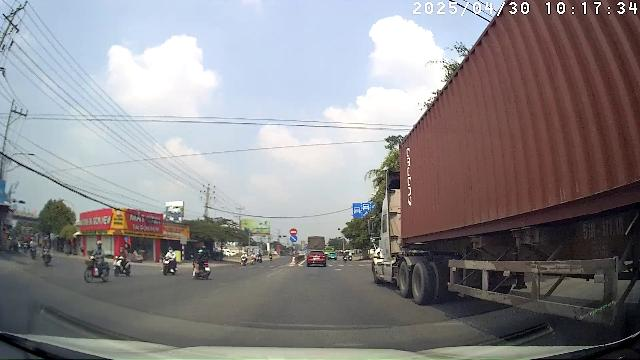102-cam-di-nguoc-chieu: (290, 228, 296, 234)
302a-huong-phai-di-vong-chuong-ngai-vat-1: (290, 234, 298, 241)
